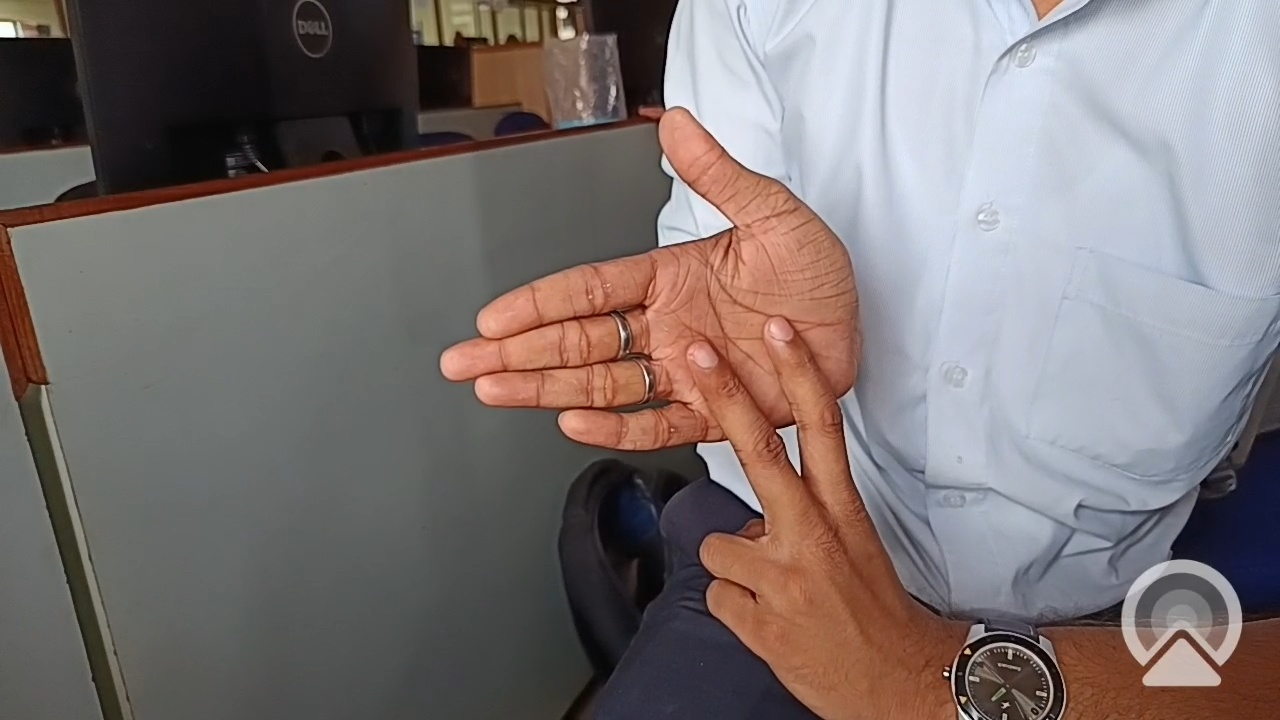N: (402, 94, 978, 720)
